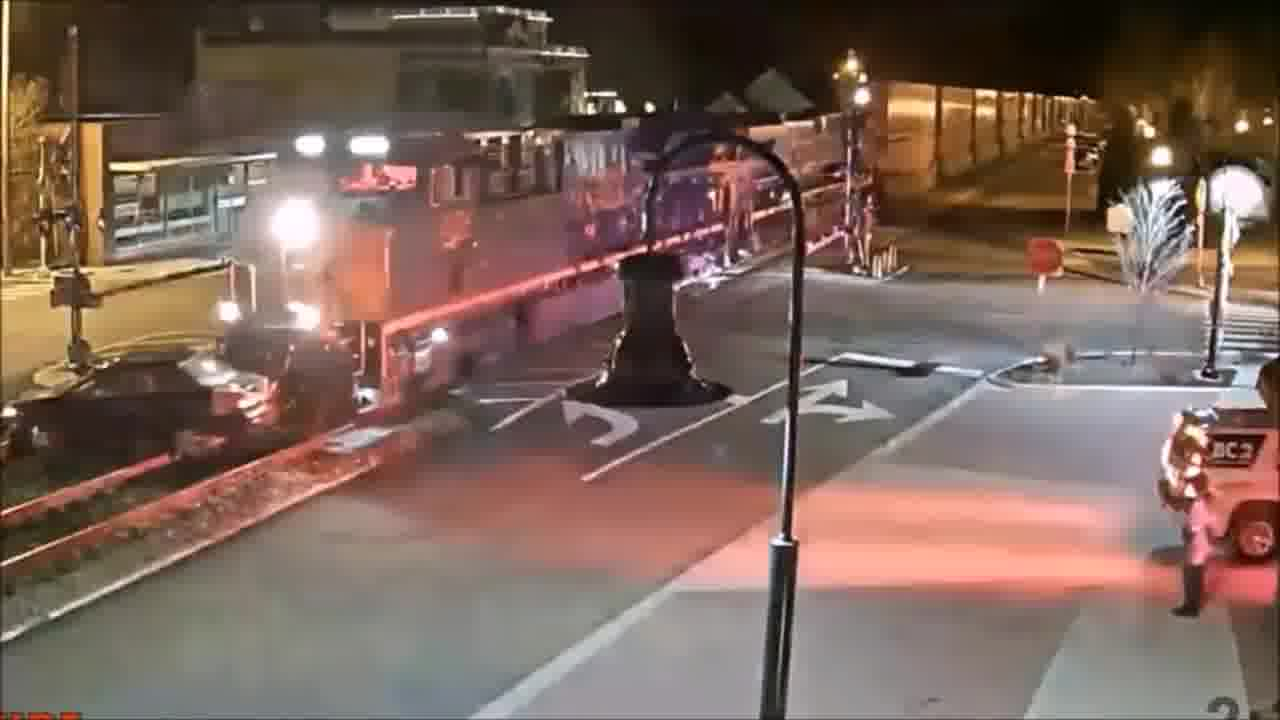crossing railway track: (6, 323, 291, 471)
